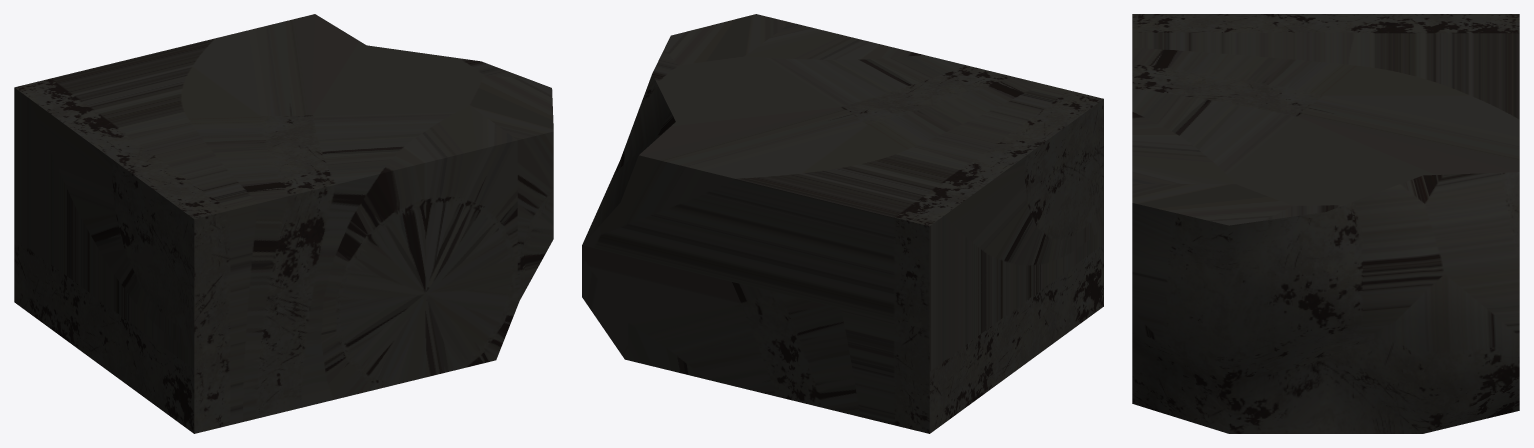
File: Pillar03.FBX
The picture shows the model from 3 angles, left to right: view 1: azimuth 30°, elevation 25°; view 2: azimuth 150°, elevation 25°; view 3: azimuth 270°, elevation 25°; orthographic projection. The views are drawn at different scales.
Visible parts, largest first — view 1: Box025; view 2: Box025; view 3: Box025.
Boxes of the visible parts, x1=… form: Box025: x1=14, y1=14, x2=553, y2=433; Box025: x1=582, y1=14, x2=1103, y2=433; Box025: x1=1132, y1=14, x2=1519, y2=433.
Size of the model in its own units: 7436 by 3787 by 5757.
